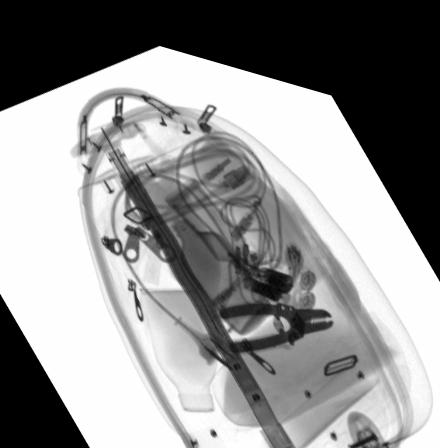Pliers: (218, 285, 334, 339)
